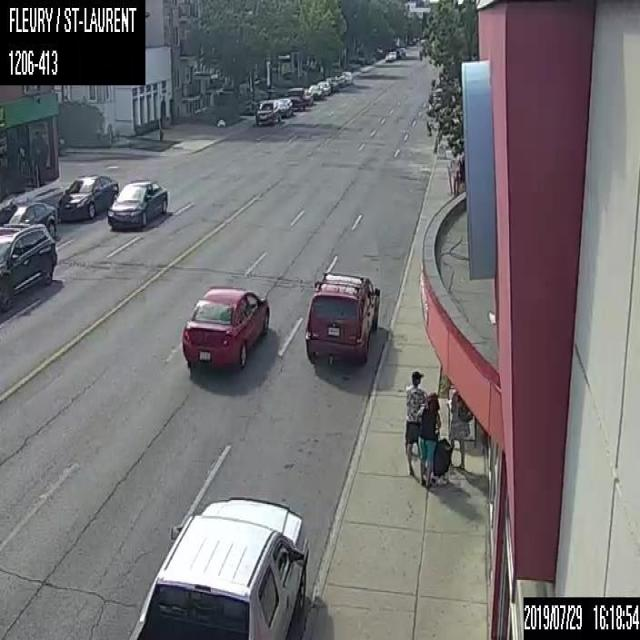pedestrian: (415, 392, 452, 486), (403, 367, 428, 485), (447, 386, 472, 471)
vehicle: (127, 494, 313, 638), (182, 284, 268, 375), (304, 268, 381, 363), (0, 221, 56, 311), (107, 178, 167, 230), (55, 174, 118, 221), (0, 200, 58, 237), (254, 100, 280, 127), (285, 87, 304, 110), (274, 96, 292, 118), (315, 80, 330, 95), (308, 84, 322, 100), (384, 54, 392, 62)
